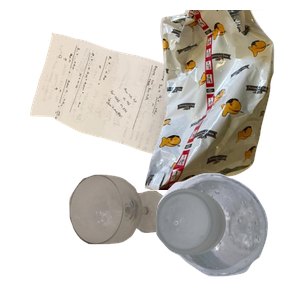glass: (67, 172, 229, 300)
paper: (27, 30, 203, 178)
plastic: (153, 170, 300, 300)
trash: (127, 10, 300, 190)
